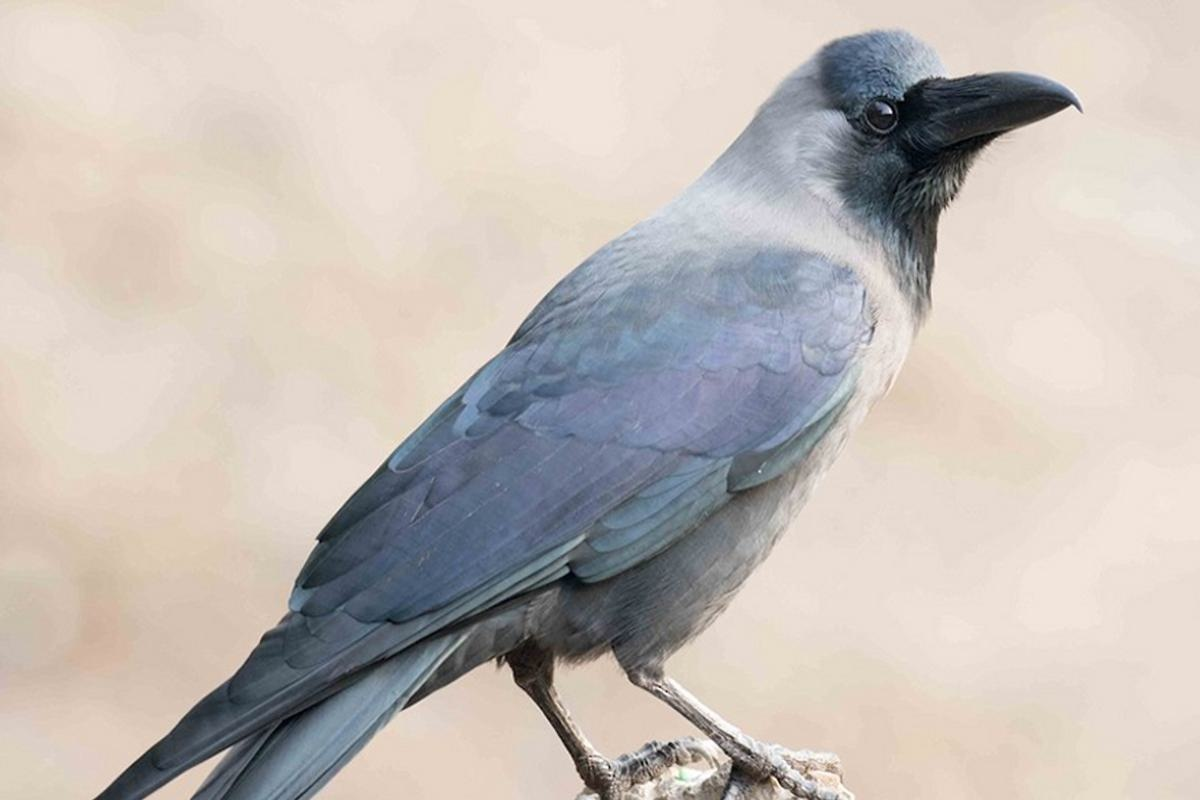crow: (53, 18, 1093, 800)
